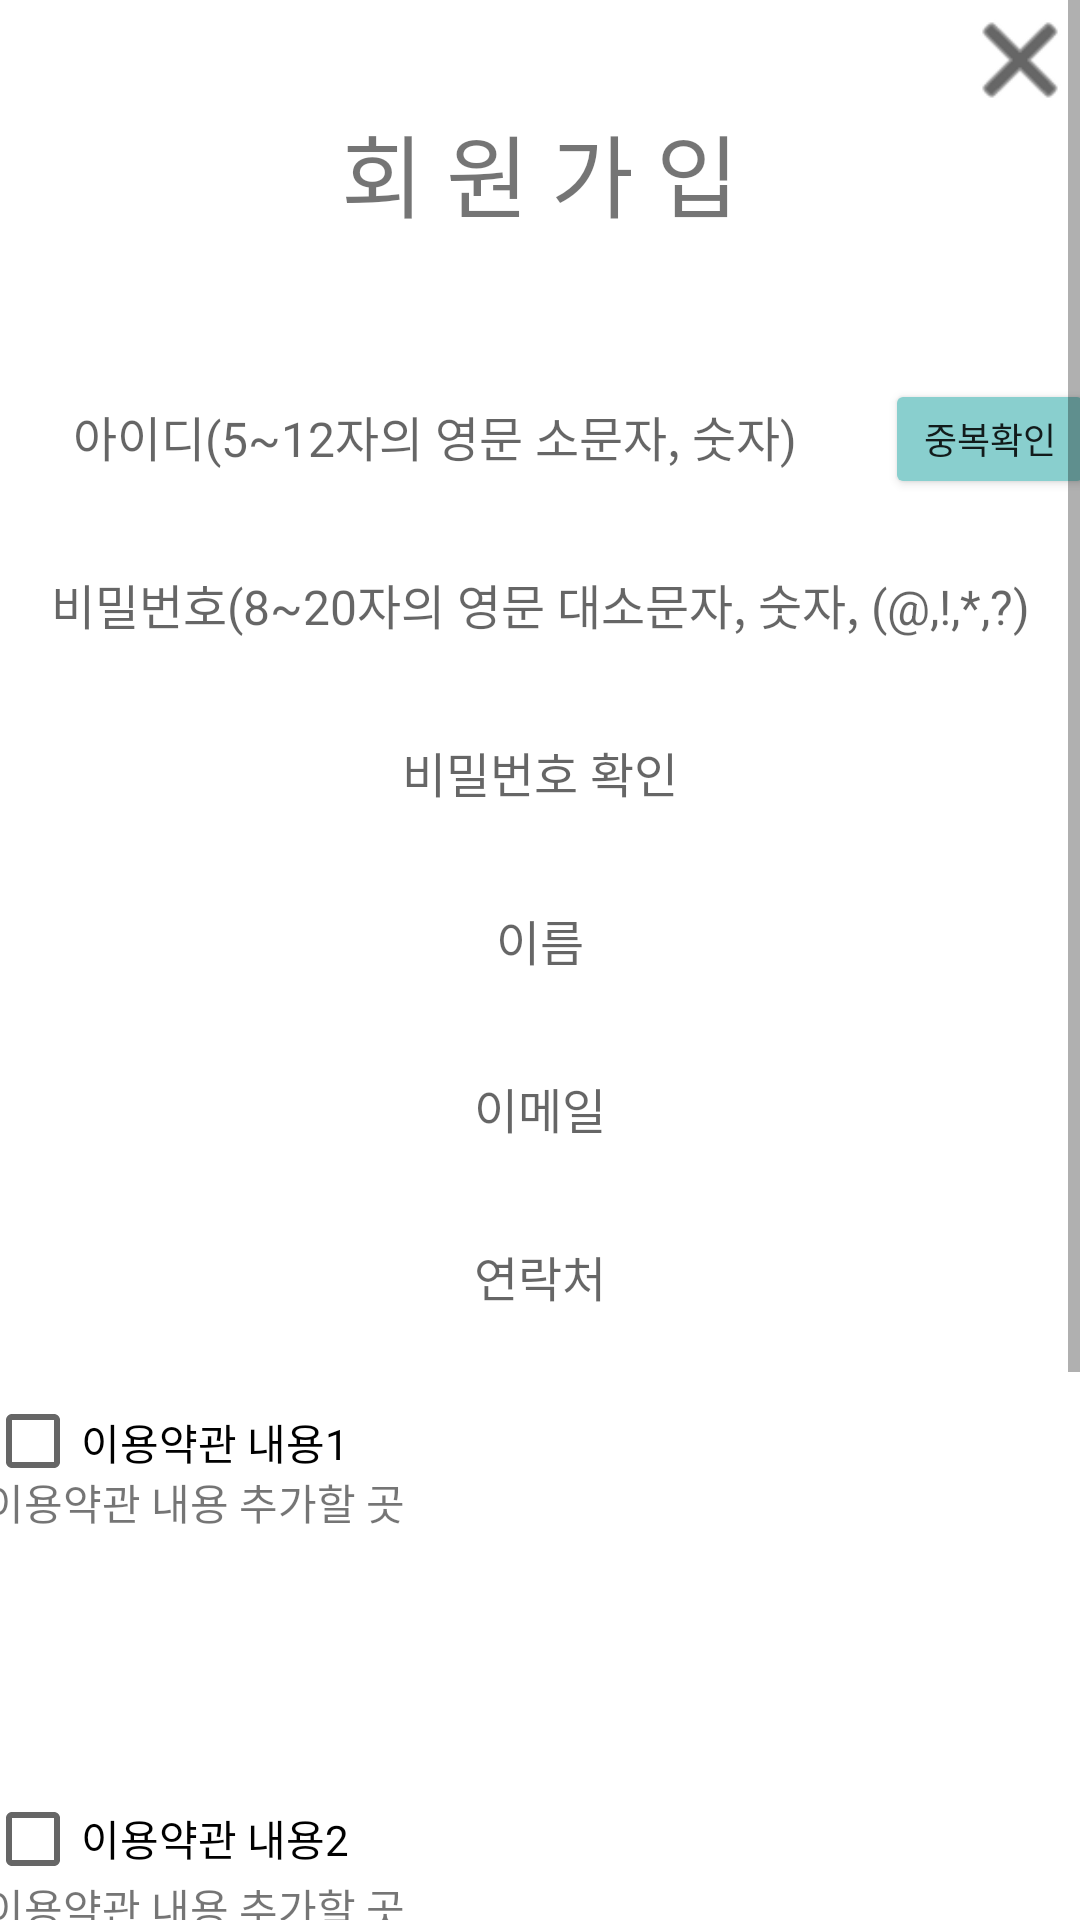

Point at icon controls on the screen. Image size 1080w x 1920h, points as (x,y).
close clear cancel: (1020,60)
